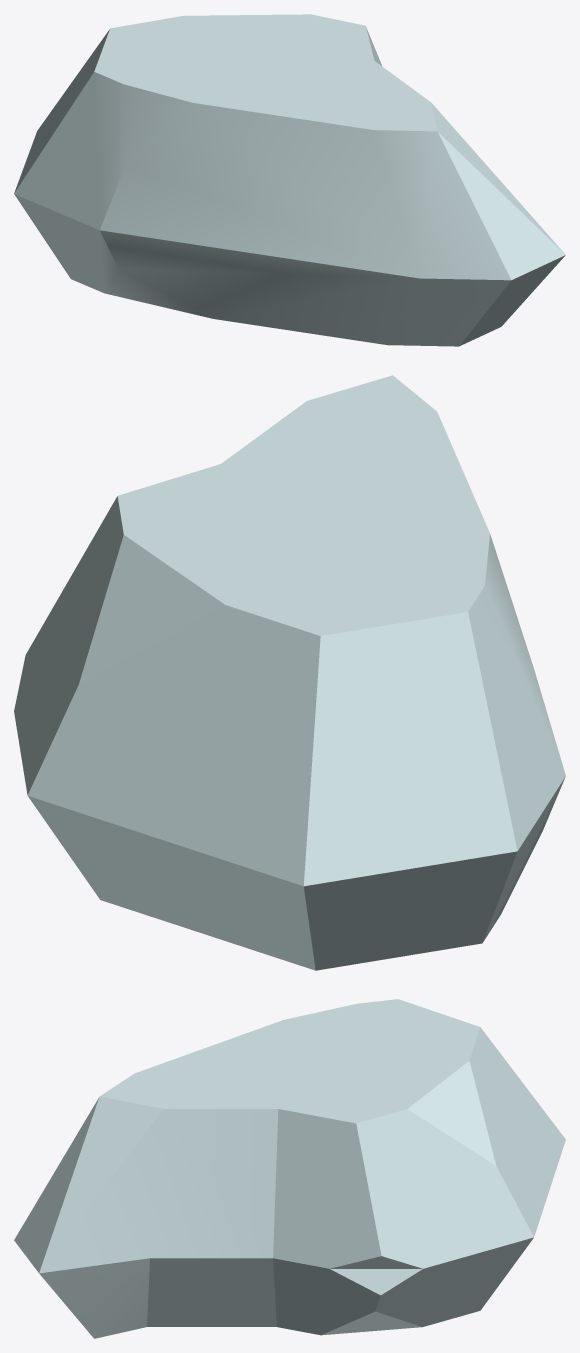
The model's file is stone_large2.gltf.
The picture shows the model from 3 angles, top to bottom: view 1: azimuth 30°, elevation 25°; view 2: azimuth 150°, elevation 25°; view 3: azimuth 270°, elevation 25°; orthographic projection. The views are drawn at different scales.
Parts seen in each view (by area): view 1: stone_large2; view 2: stone_large2; view 3: stone_large2.
Part boxes in pixels (x1,y1,x2,y2): stone_large2: (14, 14, 565, 346); stone_large2: (14, 375, 565, 970); stone_large2: (14, 999, 565, 1338).
Size of the model in its own units: 0.7667 by 0.4303 by 1.02.
